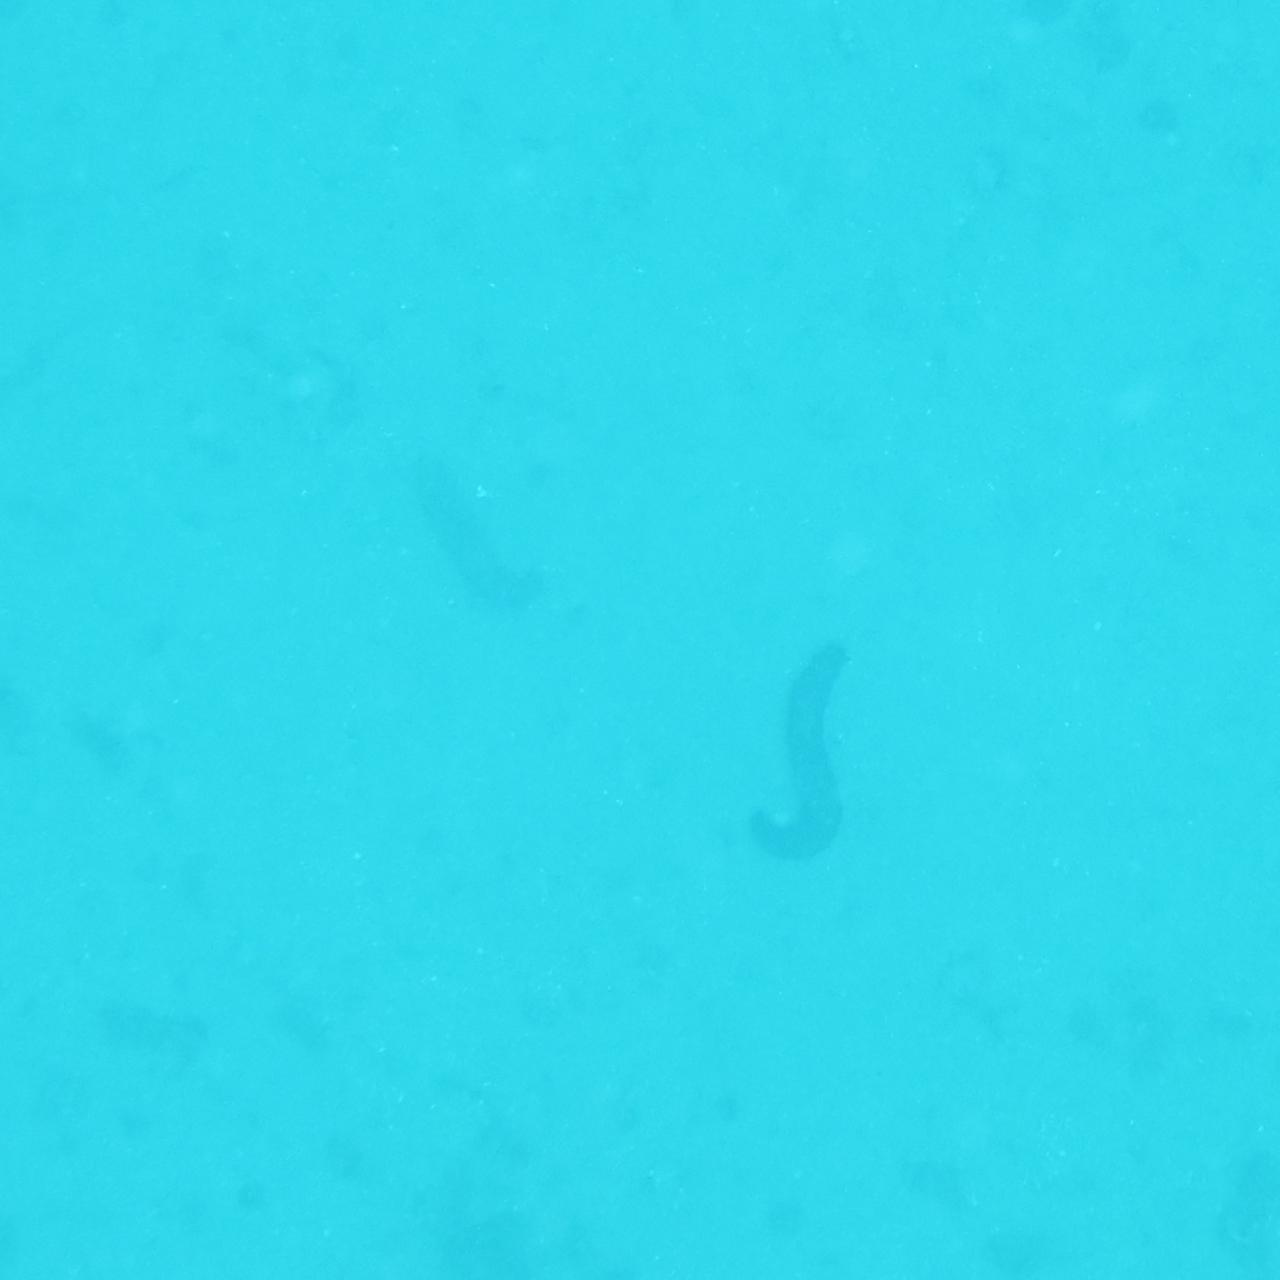Holothuria tubulosa: (730, 628, 885, 870), (388, 449, 558, 615)
